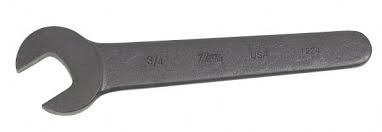wrench: (12, 24, 373, 117)
